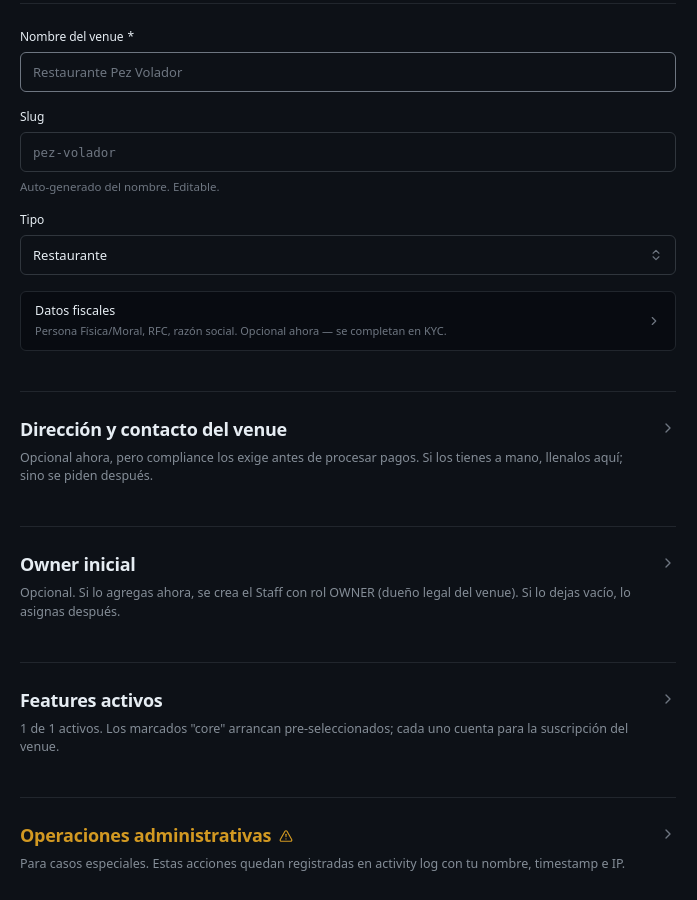
Test: NewVenuePage › al expandir "Dirección y contacto" se muestran los campos opcionales
(page scrolled)
Click the button "Dirección y contacto". click: (348, 451)
box: [20,416,676,486]
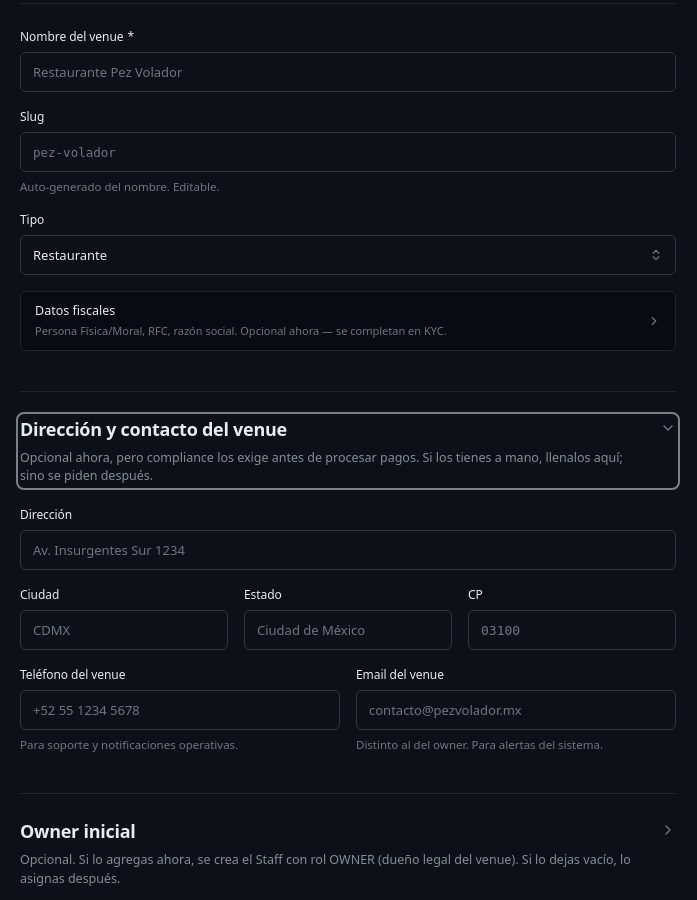
Check: the field labelled "Dirección" is shown, box [20,530,676,570]
Check: the field labelled "Ciudad" is shown, box [20,610,228,650]
Check: the field labelled "CP" is shown, box [468,610,676,650]
